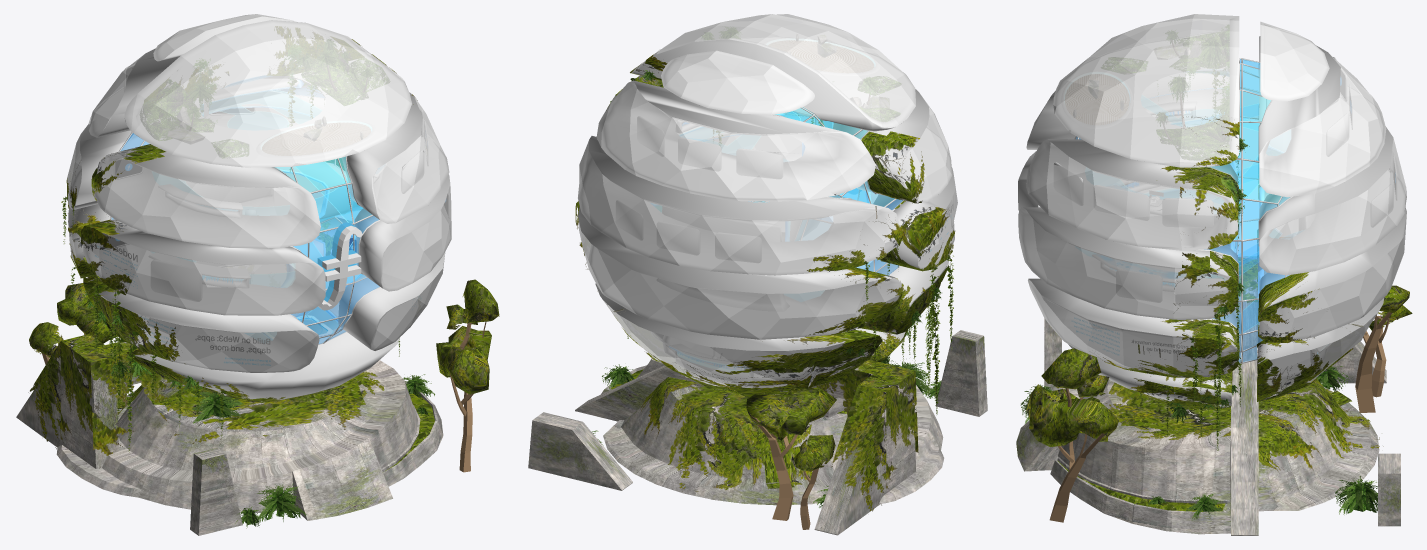
The model's file is Filecoin_test18.glb.
3 renders of one model, left to right at view 1: azimuth 30°, elevation 25°; view 2: azimuth 150°, elevation 25°; view 3: azimuth 270°, elevation 25°, orthographic. The views are drawn at different scales.
Visible parts, largest first — view 1: North Windows, North Walls, Base, South Walls, Ferns Ramp, Main Blue Windows.001, Fern Base, Icosphere.001, Ramp 1, South Windows, Ramp 2, Ferns 2 (+19 smaller); view 2: South Windows, South Walls, North Walls, North Windows, Base, Fern Base, South Walls.001, Ferns Ramp, Ferns, Cube.014, Ramp 1, Ramp 2 (+17 smaller); view 3: North Windows, North Walls, South Walls, South Windows, Base, Fern Base, Ferns, Icosphere.001, Main Blue Windows.001, Main Ramp.002, South Walls.001, Circle (+30 smaller).
Boxes of the visible parts, bbox=[...] form: North Windows: bbox=[83, 20, 451, 372]; North Walls: bbox=[84, 20, 450, 401]; Base: bbox=[56, 360, 443, 520]; South Walls: bbox=[68, 16, 352, 280]; Ferns Ramp: bbox=[28, 334, 185, 468]; Main Blue Windows.001: bbox=[111, 133, 379, 343]; Fern Base: bbox=[117, 371, 384, 447]; Icosphere.001: bbox=[436, 279, 499, 472]; Ramp 1: bbox=[16, 341, 118, 468]; South Windows: bbox=[67, 14, 324, 273]; Ramp 2: bbox=[190, 448, 242, 535]; Ferns 2: bbox=[92, 288, 330, 402]; South Windows: bbox=[578, 50, 901, 391]; South Walls: bbox=[578, 51, 901, 387]; North Walls: bbox=[613, 37, 955, 354]; North Windows: bbox=[632, 14, 957, 312]; Base: bbox=[601, 358, 944, 505]; Fern Base: bbox=[631, 377, 846, 491]; South Walls.001: bbox=[575, 201, 903, 396]; Ferns Ramp: bbox=[774, 360, 918, 529]; Ferns: bbox=[607, 54, 955, 271]; Cube.014: bbox=[528, 412, 632, 490]; Ramp 1: bbox=[814, 383, 915, 535]; Ramp 2: bbox=[936, 330, 987, 416]; North Windows: bbox=[1018, 14, 1239, 377]; North Walls: bbox=[1018, 17, 1238, 406]; South Walls: bbox=[1258, 23, 1406, 363]; South Windows: bbox=[1259, 21, 1406, 397]; Base: bbox=[1016, 374, 1379, 534]; Fern Base: bbox=[1105, 378, 1383, 487]; Ferns: bbox=[1089, 116, 1239, 410]; Icosphere.001: bbox=[1026, 348, 1118, 522]; Main Blue Windows.001: bbox=[1076, 59, 1289, 362]; Main Ramp.002: bbox=[1231, 279, 1258, 535]; South Walls.001: bbox=[1257, 160, 1366, 401]; Circle: bbox=[1065, 74, 1129, 124].
Size of what is drawn, in the model's own units: 30.68 by 35.04 by 29.62.
32 materials, 25 textured.
